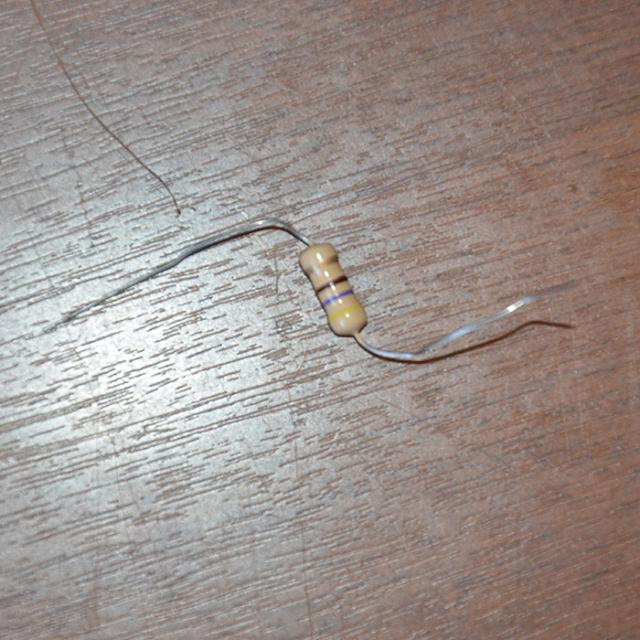brown: (315, 274, 347, 293)
gold: (308, 254, 337, 272)
resistor: (289, 226, 379, 351)
violet: (322, 289, 353, 305)
yellow: (330, 304, 360, 323)
